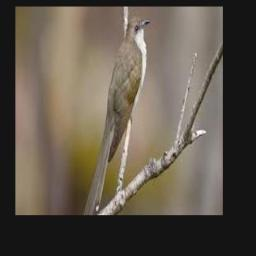Cuckoo: (84, 16, 151, 215)
